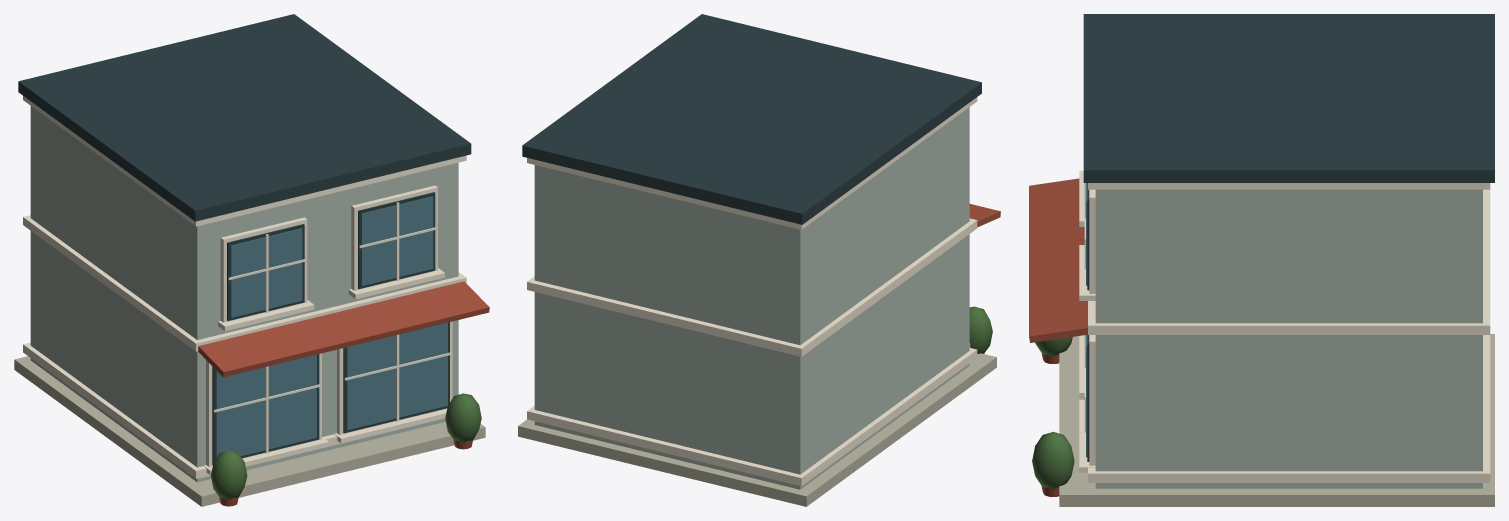
Rendered from shophouse.glb.
The picture shows the model from 3 angles, left to right: view 1: azimuth 30°, elevation 25°; view 2: azimuth 150°, elevation 25°; view 3: azimuth 270°, elevation 25°; orthographic projection. The views are drawn at different scales.
Visible parts, largest first — view 1: Neighbourhood_shop_Charcoal_frames, Neighbourhood_shop_Shop_sage, Neighbourhood_shop_Blue_glazing, Neighbourhood_shop_Limestone_trim, Neighbourhood_shop_Terracotta, Neighbourhood_shop_Paving, Neighbourhood_shop_Garden_foliage; view 2: Neighbourhood_shop_Shop_sage, Neighbourhood_shop_Charcoal_frames, Neighbourhood_shop_Limestone_trim, Neighbourhood_shop_Paving, Neighbourhood_shop_Garden_foliage; view 3: Neighbourhood_shop_Shop_sage, Neighbourhood_shop_Charcoal_frames, Neighbourhood_shop_Limestone_trim, Neighbourhood_shop_Paving, Neighbourhood_shop_Terracotta, Neighbourhood_shop_Garden_foliage.
Part boxes in pixels (left/top/right/bottom): Neighbourhood_shop_Charcoal_frames: left=18, top=14, right=471, bottom=464; Neighbourhood_shop_Shop_sage: left=30, top=106, right=458, bottom=482; Neighbourhood_shop_Blue_glazing: left=216, top=196, right=447, bottom=458; Neighbourhood_shop_Limestone_trim: left=23, top=96, right=466, bottom=478; Neighbourhood_shop_Terracotta: left=198, top=281, right=489, bottom=506; Neighbourhood_shop_Paving: left=14, top=356, right=485, bottom=506; Neighbourhood_shop_Garden_foliage: left=210, top=393, right=481, bottom=499; Neighbourhood_shop_Shop_sage: left=534, top=107, right=969, bottom=489; Neighbourhood_shop_Charcoal_frames: left=522, top=14, right=981, bottom=224; Neighbourhood_shop_Limestone_trim: left=527, top=97, right=977, bottom=486; Neighbourhood_shop_Paving: left=518, top=353, right=996, bottom=506; Neighbourhood_shop_Garden_foliage: left=969, top=306, right=992, bottom=353; Neighbourhood_shop_Shop_sage: left=1095, top=189, right=1482, bottom=488; Neighbourhood_shop_Charcoal_frames: left=1083, top=14, right=1494, bottom=461; Neighbourhood_shop_Limestone_trim: left=1079, top=170, right=1490, bottom=482; Neighbourhood_shop_Paving: left=1059, top=334, right=1494, bottom=506; Neighbourhood_shop_Terracotta: left=1029, top=178, right=1087, bottom=496; Neighbourhood_shop_Garden_foliage: left=1032, top=337, right=1074, bottom=490.
Bounding box in the file's own units: 6.3 × 6.09 × 7.7.
